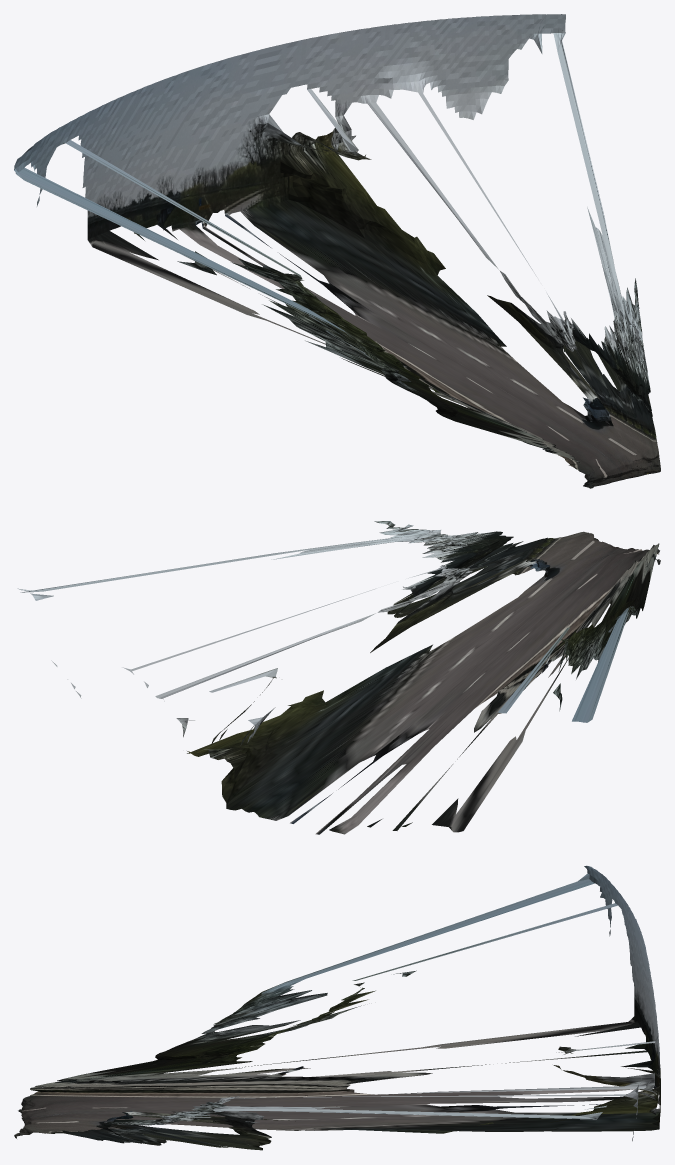
3 renders of one model, top to bottom at view 1: azimuth 30°, elevation 25°; view 2: azimuth 150°, elevation 25°; view 3: azimuth 270°, elevation 25°, orthographic. The views are drawn at different scales.
Parts seen in each view (by area): view 1: defaultobject; view 2: defaultobject; view 3: defaultobject.
Boxes of the visible parts, box(x1,y1,x2,y2) form: defaultobject: box(14, 14, 660, 488); defaultobject: box(17, 521, 660, 834); defaultobject: box(14, 865, 660, 1150).
Size of the model in its own units: 39.16 by 11.74 by 44.59.
1 material, 1 textured.
